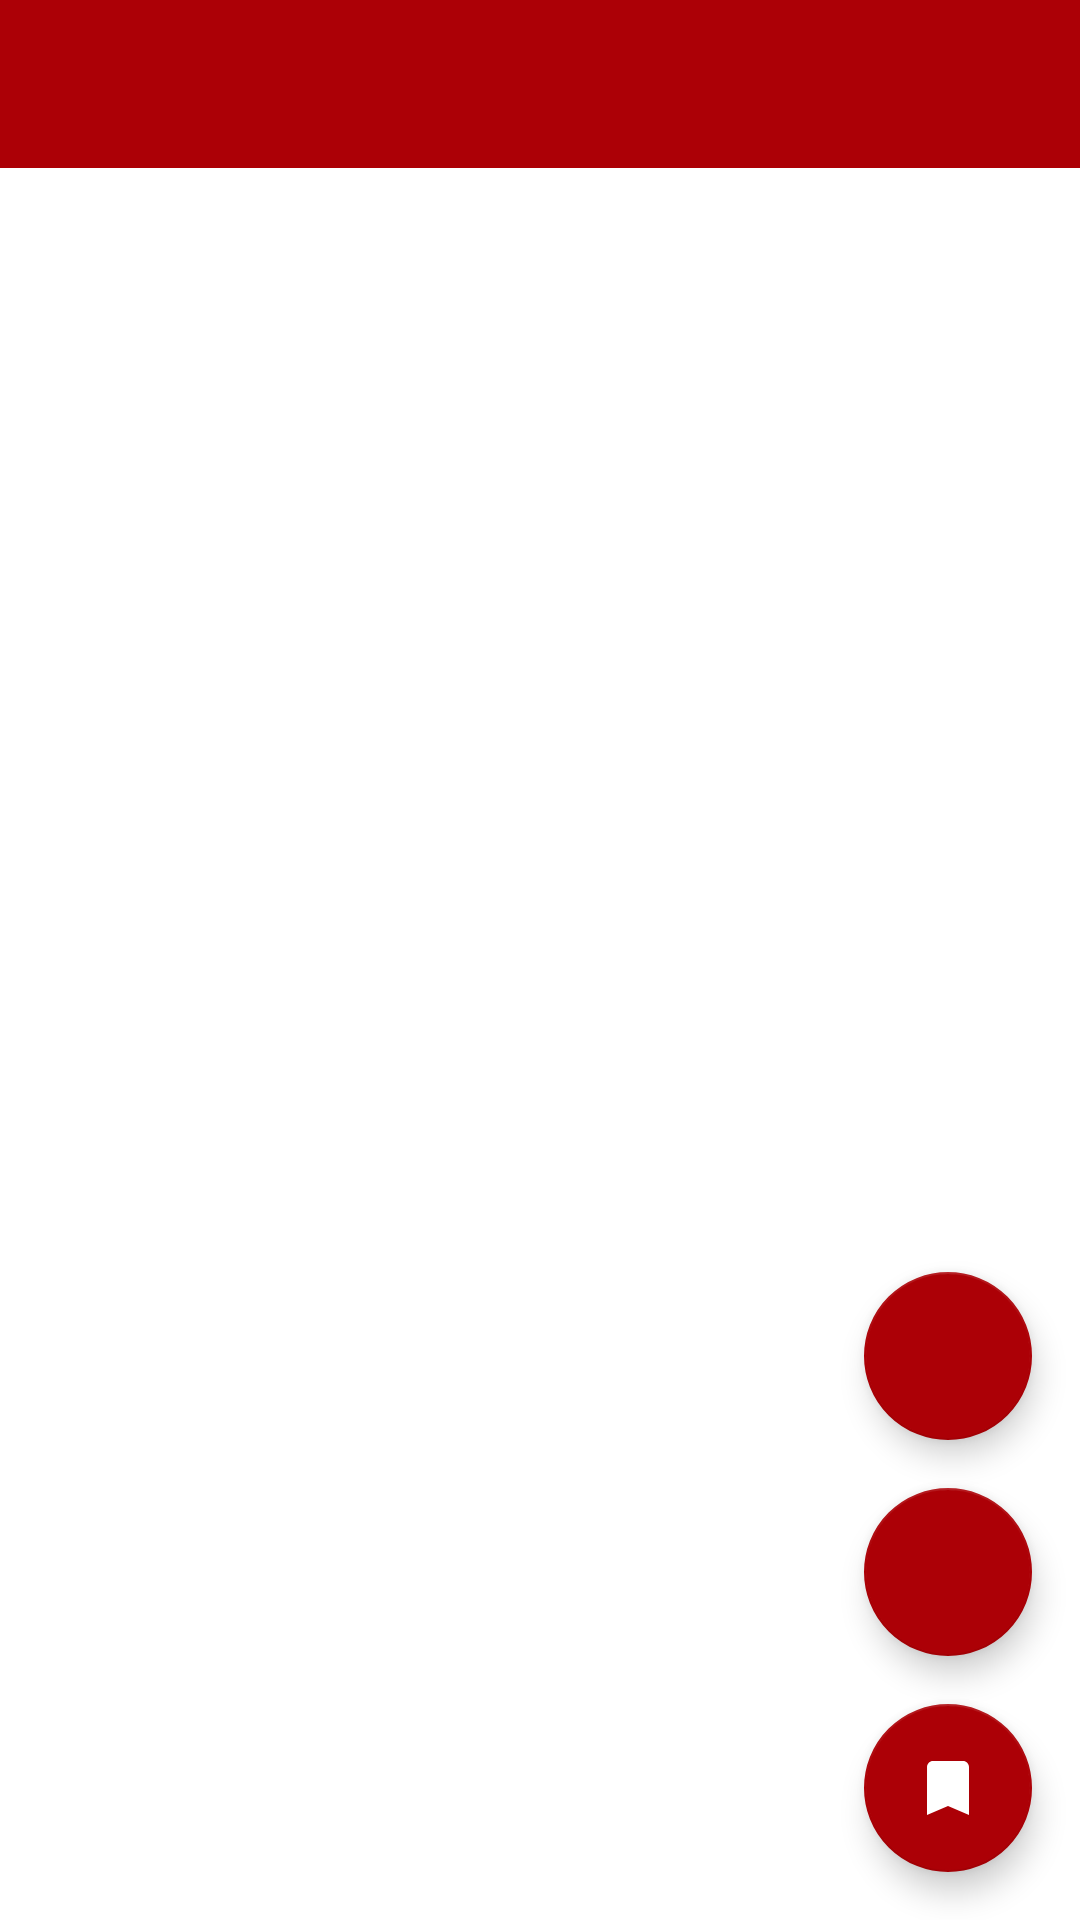

Screen size 1080x1920. Icon name, then its box in pixels as box(x1, y1, x2, y2):
fab: box(864, 1704, 1032, 1872)
